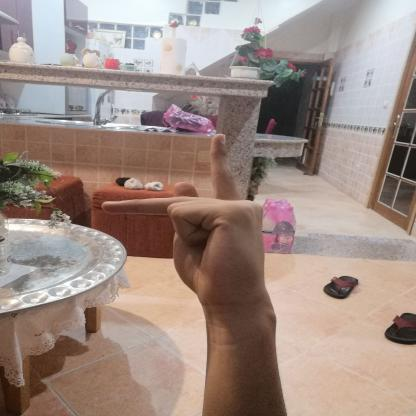DHAA: (87, 122, 284, 316)
